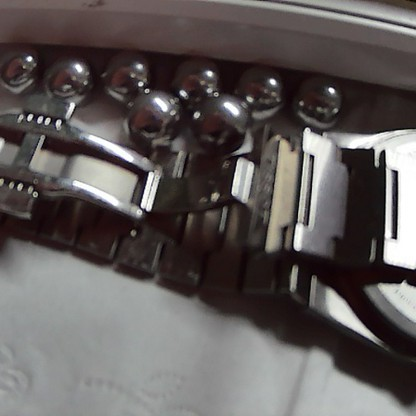ironball: (191, 87, 256, 145), (117, 84, 171, 139), (95, 42, 147, 97), (295, 69, 344, 124), (43, 48, 88, 106), (174, 51, 221, 98), (0, 44, 42, 93), (241, 65, 283, 111)
